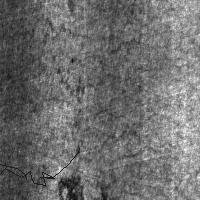crazing: (69, 68, 148, 164), (27, 13, 149, 59), (0, 148, 79, 188)
